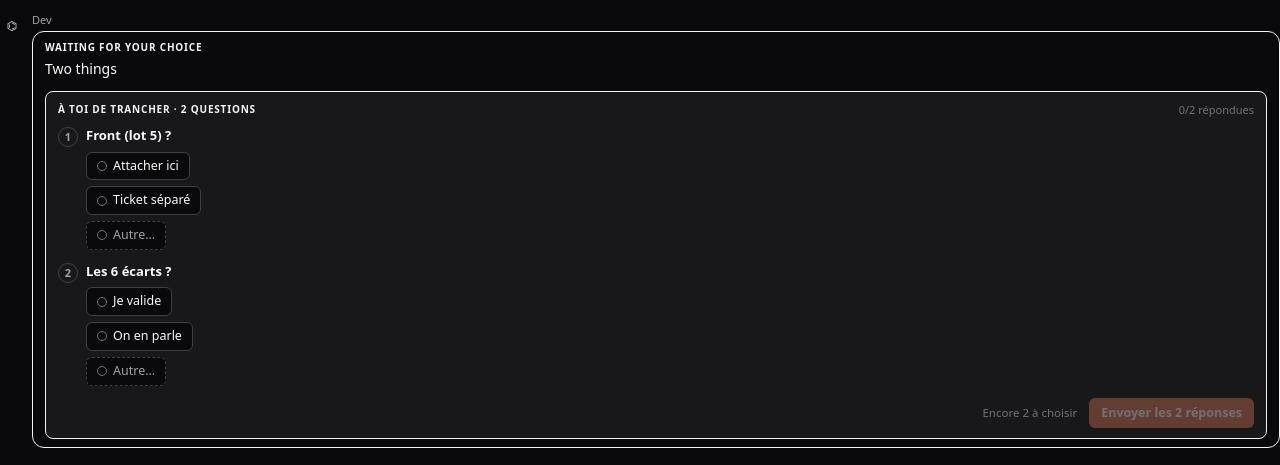
InlineQuestion › multiple questions: sending posts every answer and locks the card
The width and height of the screenshot is (1280, 465).
Click the radio button labelled "Ticket séparé": [144, 201] box [86,186,201,215]
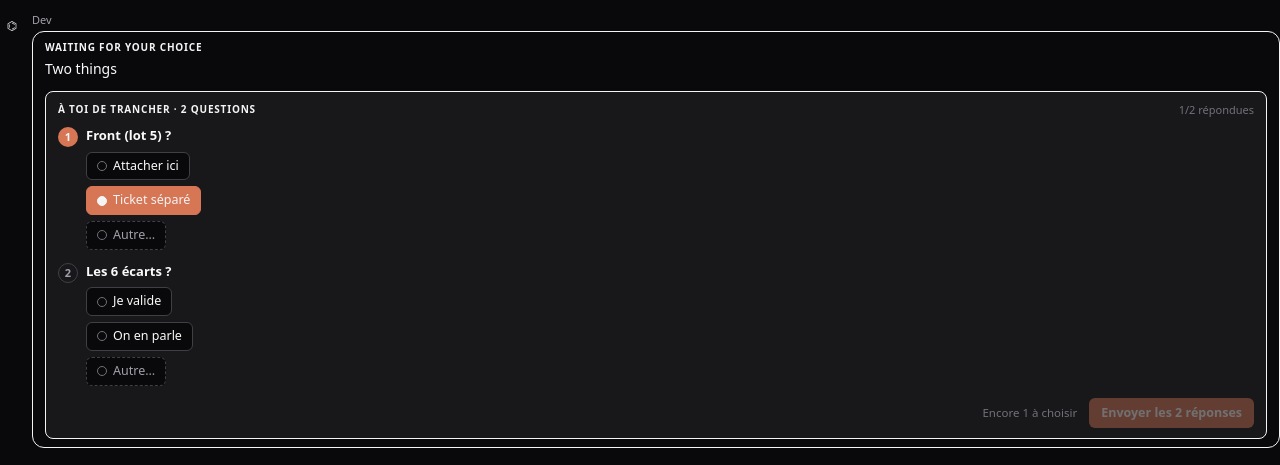
Click the radio button labelled "Je valide": [129, 302] box [86,287,172,316]
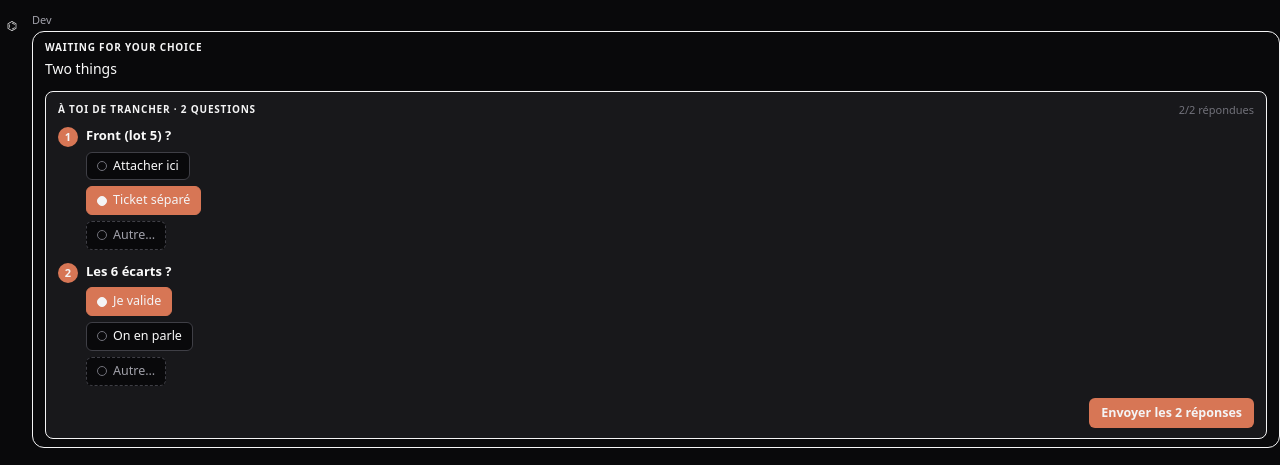
Click the button "Envoyer les 2 réponses": [1172, 413] box [1089,398,1254,428]
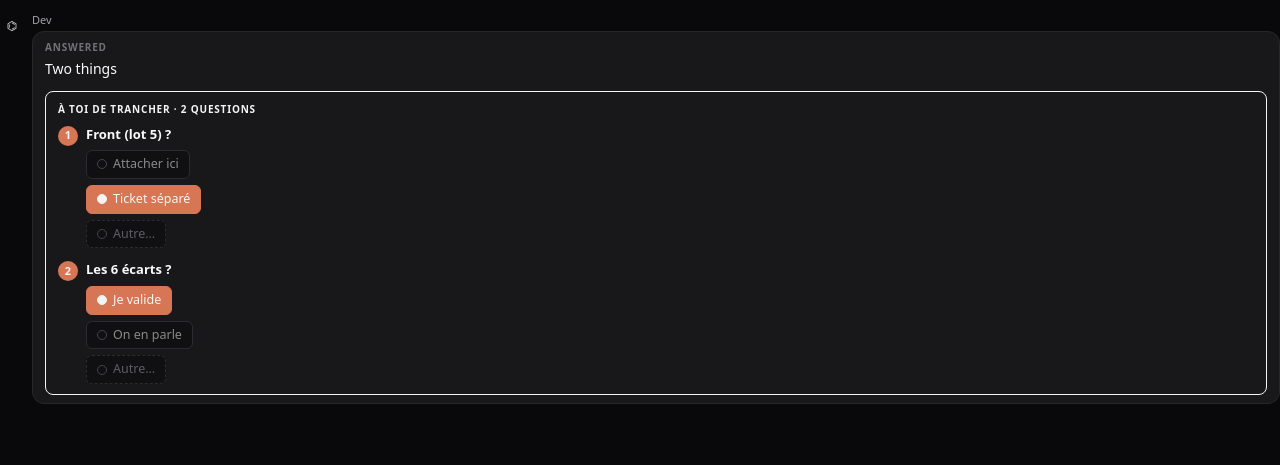
Check: the text "ANSWERED" is shown, box [45,40,107,54]
Check: the radio button labelled "On en parle" is disabled, box [86,320,193,349]
